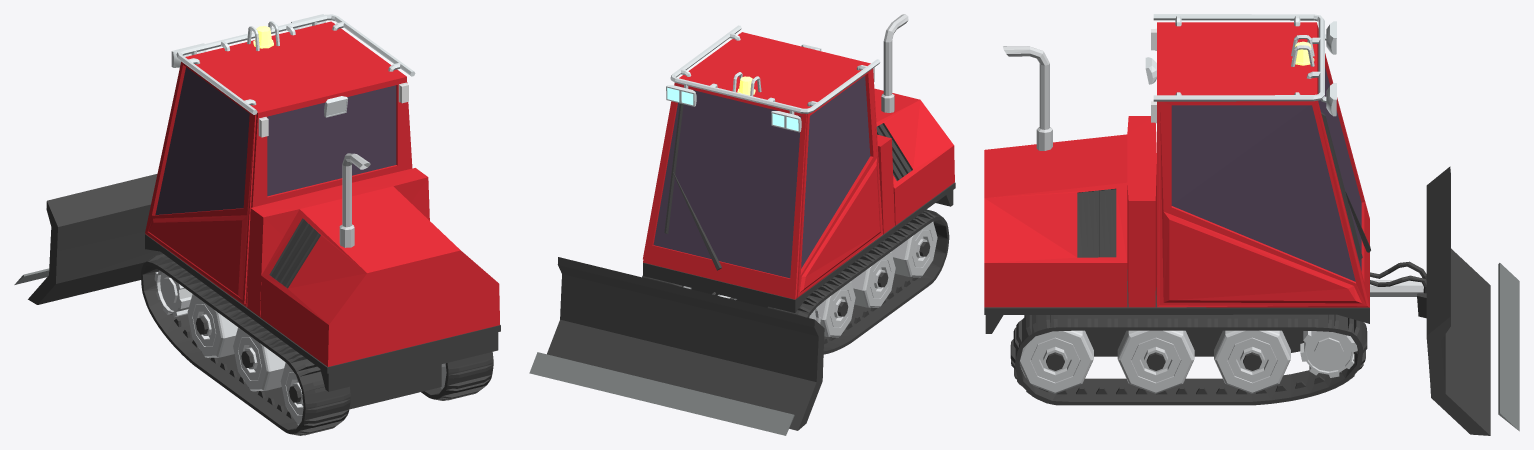
The model's file is snowcat.glb.
The picture shows the model from 3 angles, left to right: view 1: azimuth 30°, elevation 25°; view 2: azimuth 150°, elevation 25°; view 3: azimuth 270°, elevation 25°; orthographic projection. The views are drawn at different scales.
Parts seen in each view (by area): view 1: snowcat; view 2: snowcat; view 3: snowcat.
Boxes of the visible parts, bbox=[...] form: snowcat: bbox=[14, 14, 500, 435]; snowcat: bbox=[529, 14, 955, 435]; snowcat: bbox=[984, 14, 1519, 435].
Bounding box in the file's own units: 3.22 × 3.2 × 4.84.
